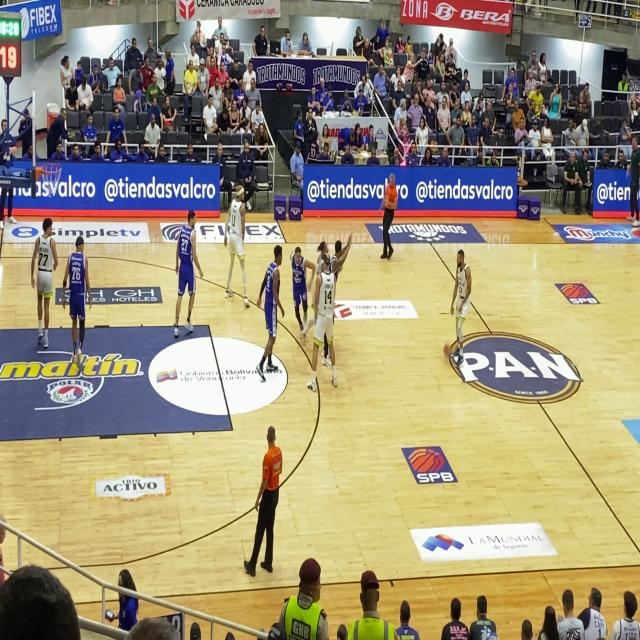Ball: (438, 339, 453, 364)
referee: (240, 414, 288, 588), (375, 171, 406, 261)
team1: (212, 176, 255, 311), (438, 243, 478, 374), (312, 248, 343, 390), (30, 214, 62, 348)
team2: (158, 199, 211, 342), (60, 230, 102, 370), (256, 246, 285, 390), (292, 236, 314, 342)
ubasket: (39, 160, 62, 193)
